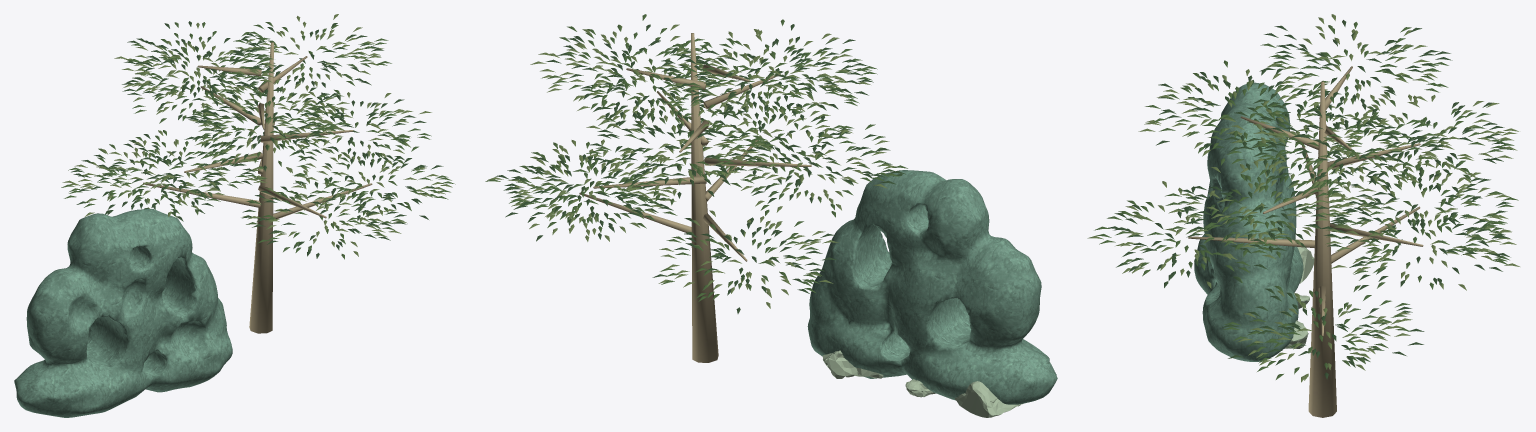
Rendered from reference-public_models_places_qujingtongyou.glb.
3 views of the same model, side by side, from view 1: azimuth 30°, elevation 25°; view 2: azimuth 150°, elevation 25°; view 3: azimuth 270°, elevation 25° (orthographic). The views are drawn at different scales.
Parts seen in each view (by area): view 1: qujingtongyou_gardenstone, qujingtongyou_canopy, qujingtongyou_canopy_light, qujingtongyou_canopy_shadow, qujingtongyou_bark; view 2: qujingtongyou_gardenstone, qujingtongyou_canopy, qujingtongyou_canopy_shadow, qujingtongyou_canopy_light, qujingtongyou_bark, qujingtongyou_limestone.001; view 3: qujingtongyou_gardenstone, qujingtongyou_canopy_light, qujingtongyou_canopy, qujingtongyou_canopy_shadow, qujingtongyou_bark, qujingtongyou_limestone.001.
Boxes of the visible parts, x1=… form: qujingtongyou_gardenstone: x1=14, y1=209, x2=232, y2=417; qujingtongyou_canopy: x1=61, y1=22, x2=455, y2=259; qujingtongyou_canopy_light: x1=62, y1=14, x2=452, y2=256; qujingtongyou_canopy_shadow: x1=71, y1=21, x2=445, y2=258; qujingtongyou_bark: x1=143, y1=42, x2=372, y2=333; qujingtongyou_gardenstone: x1=807, y1=170, x2=1057, y2=404; qujingtongyou_canopy: x1=485, y1=14, x2=907, y2=301; qujingtongyou_canopy_shadow: x1=495, y1=24, x2=905, y2=313; qujingtongyou_canopy_light: x1=487, y1=24, x2=895, y2=308; qujingtongyou_bark: x1=579, y1=33, x2=811, y2=362; qujingtongyou_limestone.001: x1=822, y1=350, x2=1022, y2=417; qujingtongyou_gardenstone: x1=1194, y1=82, x2=1303, y2=361; qujingtongyou_canopy_light: x1=1087, y1=14, x2=1519, y2=382; qujingtongyou_canopy: x1=1094, y1=22, x2=1518, y2=379; qujingtongyou_canopy_shadow: x1=1108, y1=20, x2=1513, y2=379; qujingtongyou_bark: x1=1188, y1=66, x2=1423, y2=417; qujingtongyou_limestone.001: x1=1284, y1=247, x2=1314, y2=348.
Bounding box in the file's own units: 16.88 × 10.09 × 11.7.
Materials: 6 (3 with a texture image).
